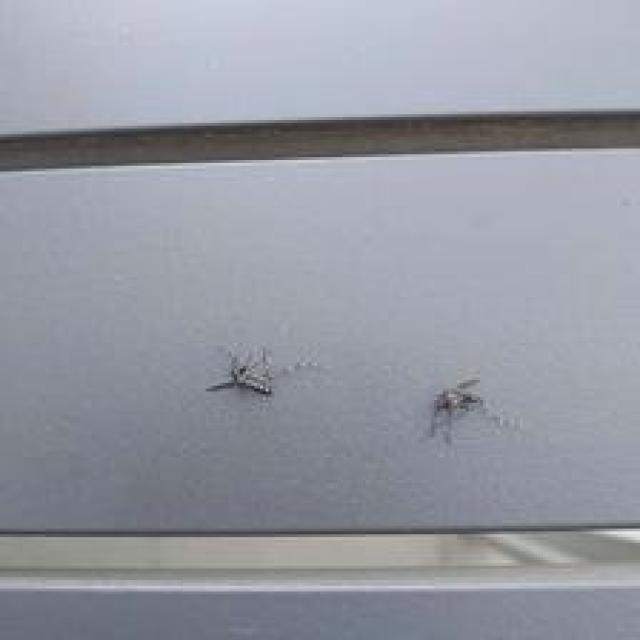Aedes albopictus: (206, 346, 274, 397)
